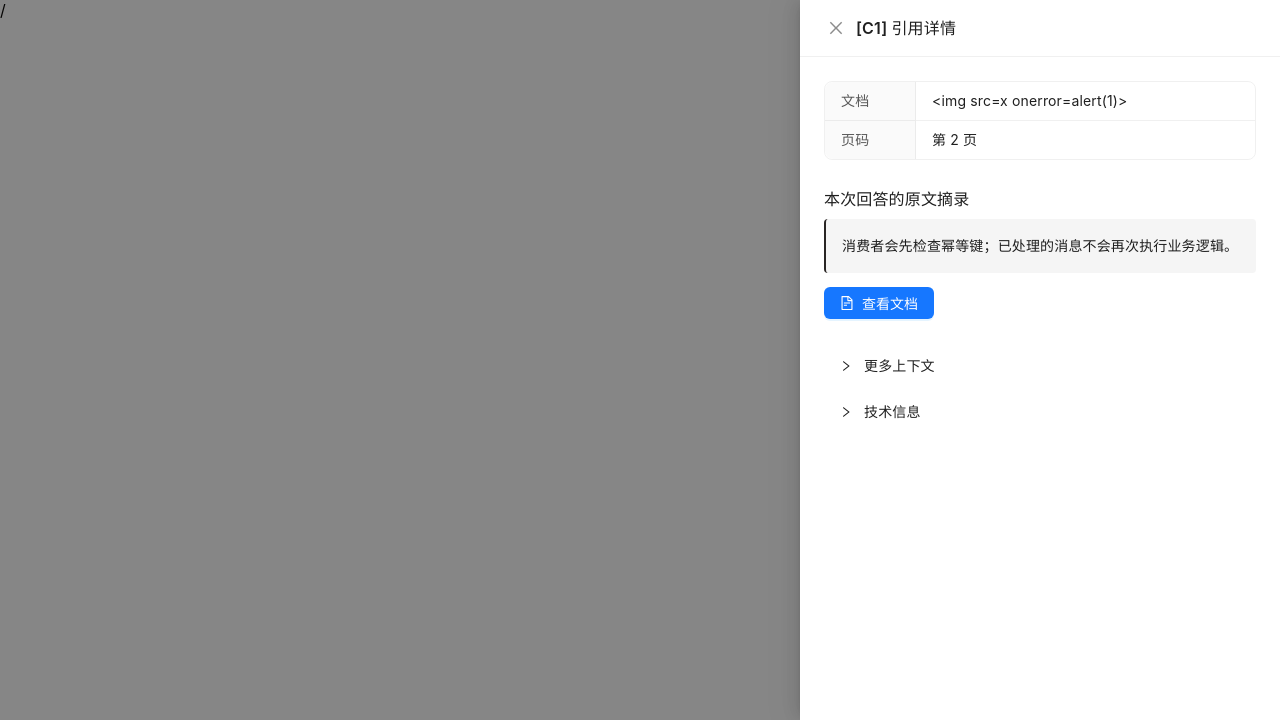
Scenario: FE11 citation context (explicit Mock response) › supports context error/retry and empty results without replacing the citation quote
Click the button "更多上下文" at x=887, y=365, box [840, 357, 935, 374]
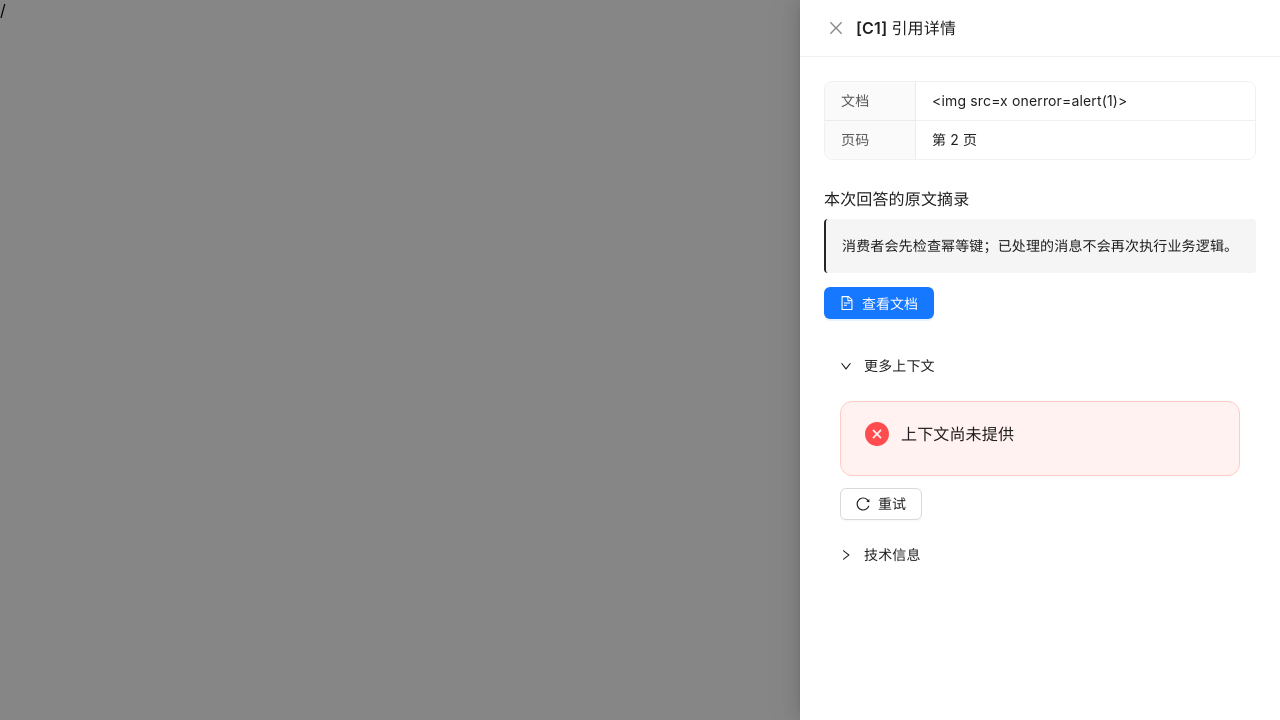
Expected: the text "消费者会先检查幂等键；已处理的消息不会再次执行业务逻辑。" is shown, [824, 219, 1256, 273]
Expected: the text "上下文尚未提供" is shown, [901, 424, 1014, 444]
Click the button "重试" at x=881, y=504, box [840, 488, 922, 520]
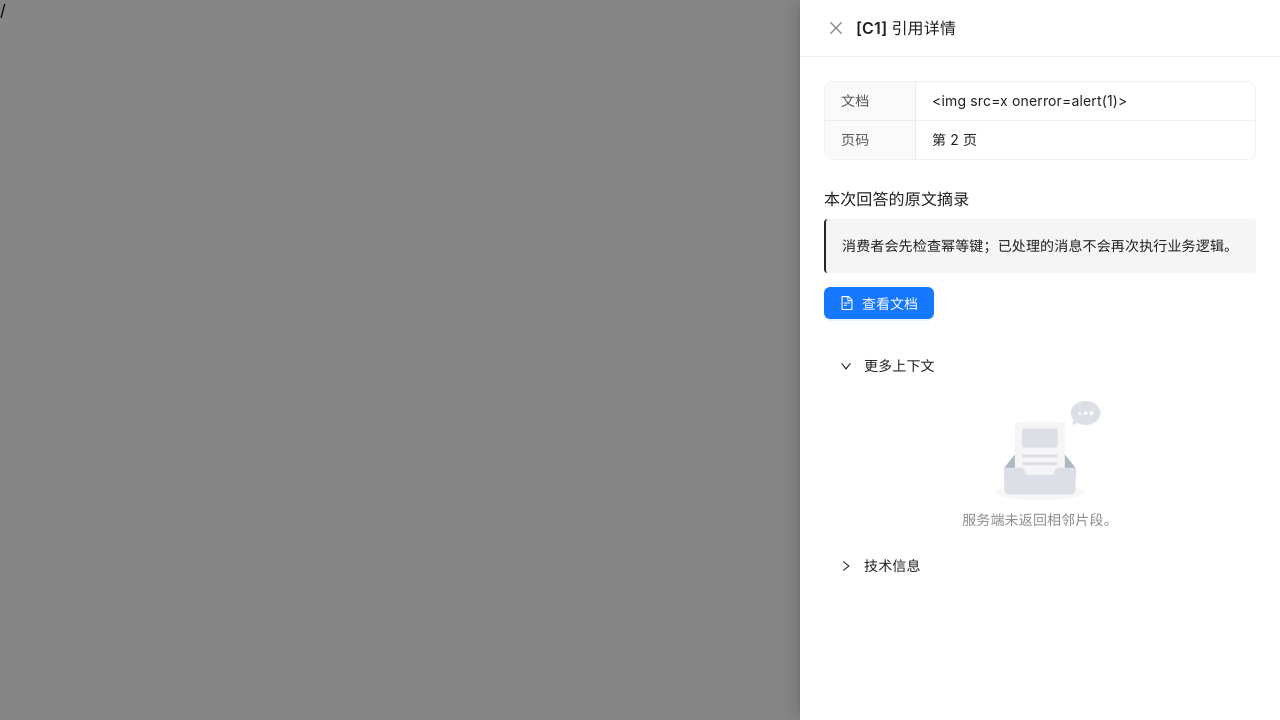
Expected: the text "服务端未返回相邻片段。" is shown, [962, 511, 1118, 528]
